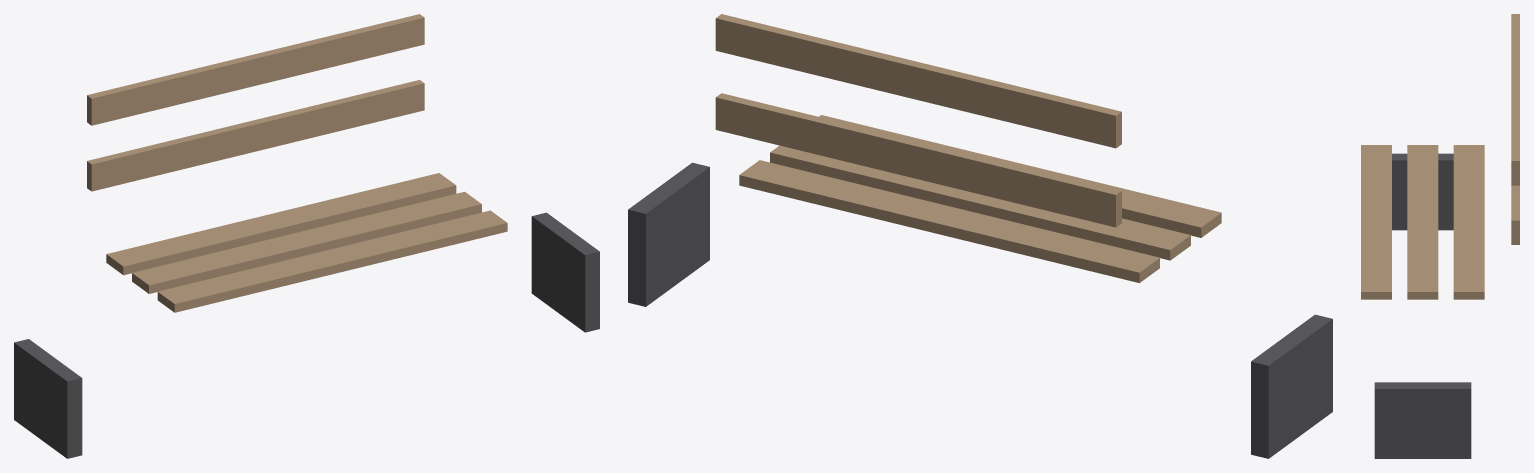
File: bench.glb
3 renders of one model, left to right at view 1: azimuth 30°, elevation 25°; view 2: azimuth 150°, elevation 25°; view 3: azimuth 270°, elevation 25°, orthographic. The views are drawn at different scales.
Parts seen in each view (by area): view 1: bench_back1, bench_back0, bench_seat0, bench_seat2, bench_seat1, bench_leg2, bench_leg1; view 2: bench_back0, bench_back1, bench_seat2, bench_seat1, bench_leg1, bench_leg2, bench_seat0; view 3: bench_leg2, bench_seat1, bench_seat2, bench_seat0, bench_leg1, bench_back1, bench_back0.
Part boxes in pixels (x1,y1,x2,y2): bench_back1: (87, 14, 424, 125); bench_back0: (87, 80, 424, 191); bench_seat0: (157, 210, 507, 312); bench_seat2: (106, 173, 456, 275); bench_seat1: (132, 191, 481, 293); bench_leg2: (531, 212, 599, 332); bench_leg1: (14, 339, 82, 458); bench_back0: (715, 93, 1121, 227); bench_back1: (715, 14, 1121, 148); bench_seat2: (739, 160, 1159, 282); bench_seat1: (770, 145, 1190, 260); bench_leg1: (1251, 314, 1332, 458); bench_leg2: (628, 162, 709, 306); bench_seat0: (819, 115, 1221, 237); bench_leg2: (1374, 382, 1471, 458); bench_seat1: (1407, 145, 1438, 299); bench_seat2: (1453, 145, 1484, 299); bench_seat0: (1361, 145, 1391, 299); bench_leg1: (1392, 153, 1453, 230); bench_back1: (1511, 14, 1519, 185); bench_back0: (1511, 185, 1519, 244).
Size of the model in its own units: 1.44 by 0.725 by 0.4112.
